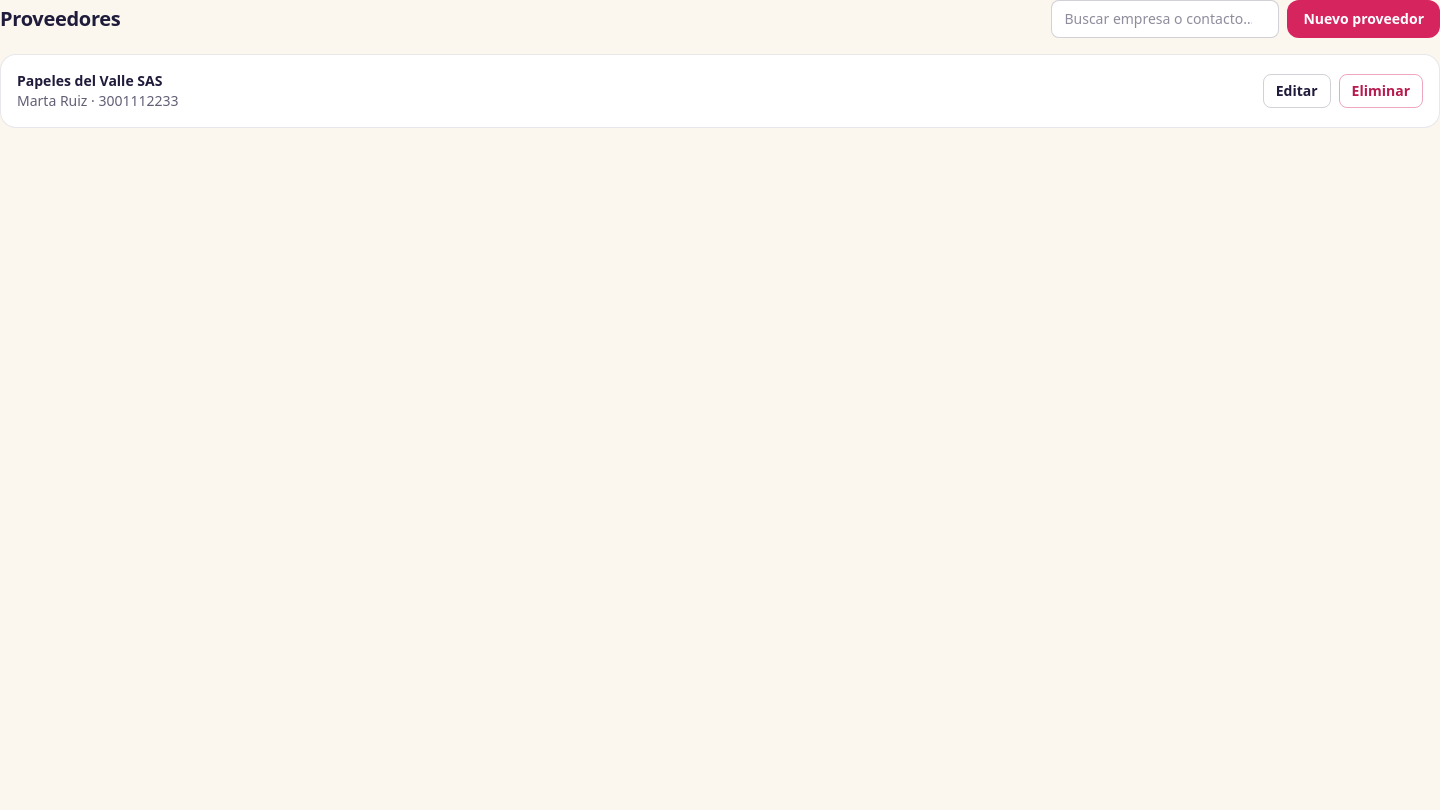
Scenario: Proveedores › muestra el error del backend al eliminar un proveedor con compras
Click the button "Eliminar" at coordinates (1381, 91), box [1339,74,1423,108]
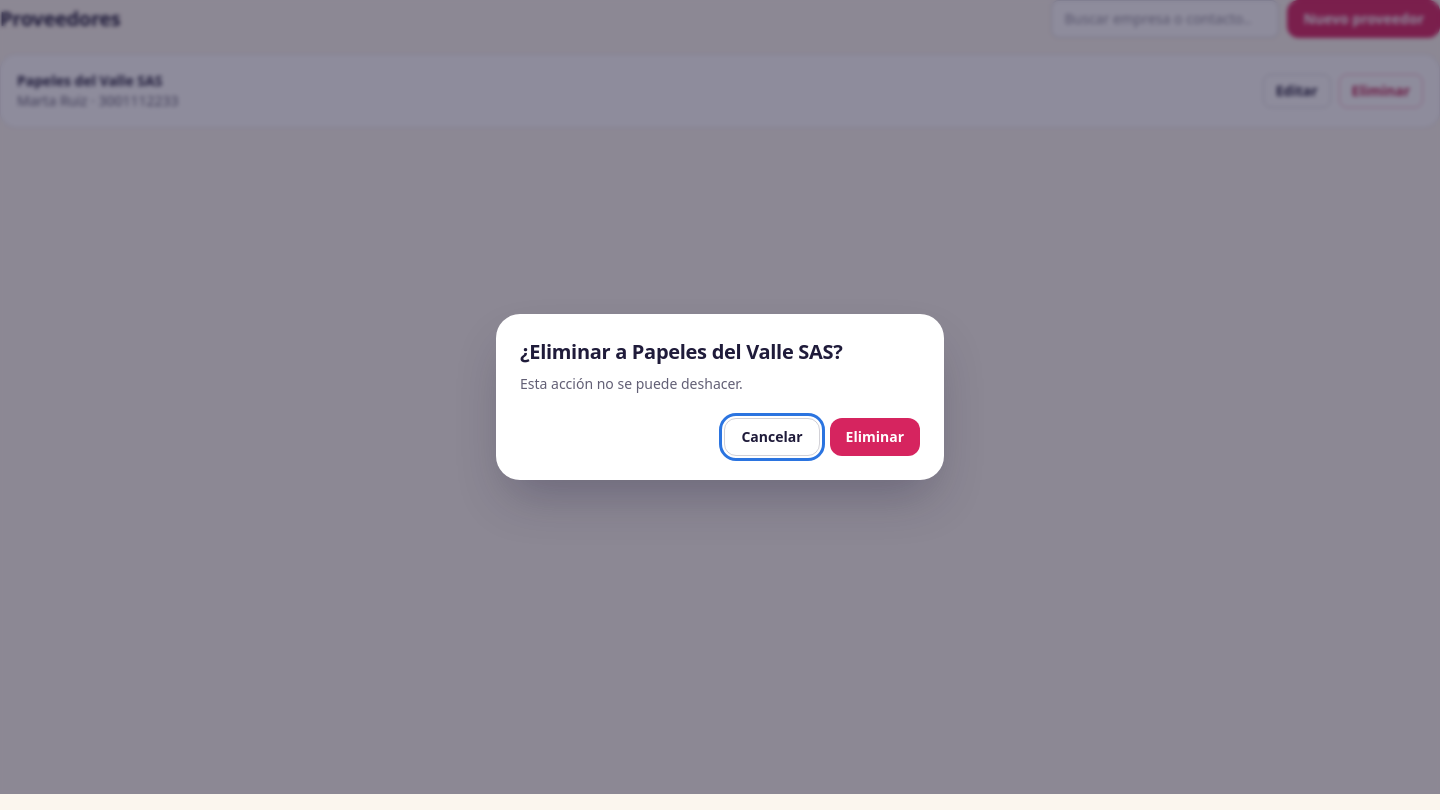
Click the button "Eliminar" at coordinates (875, 437), box [830,418,920,456]
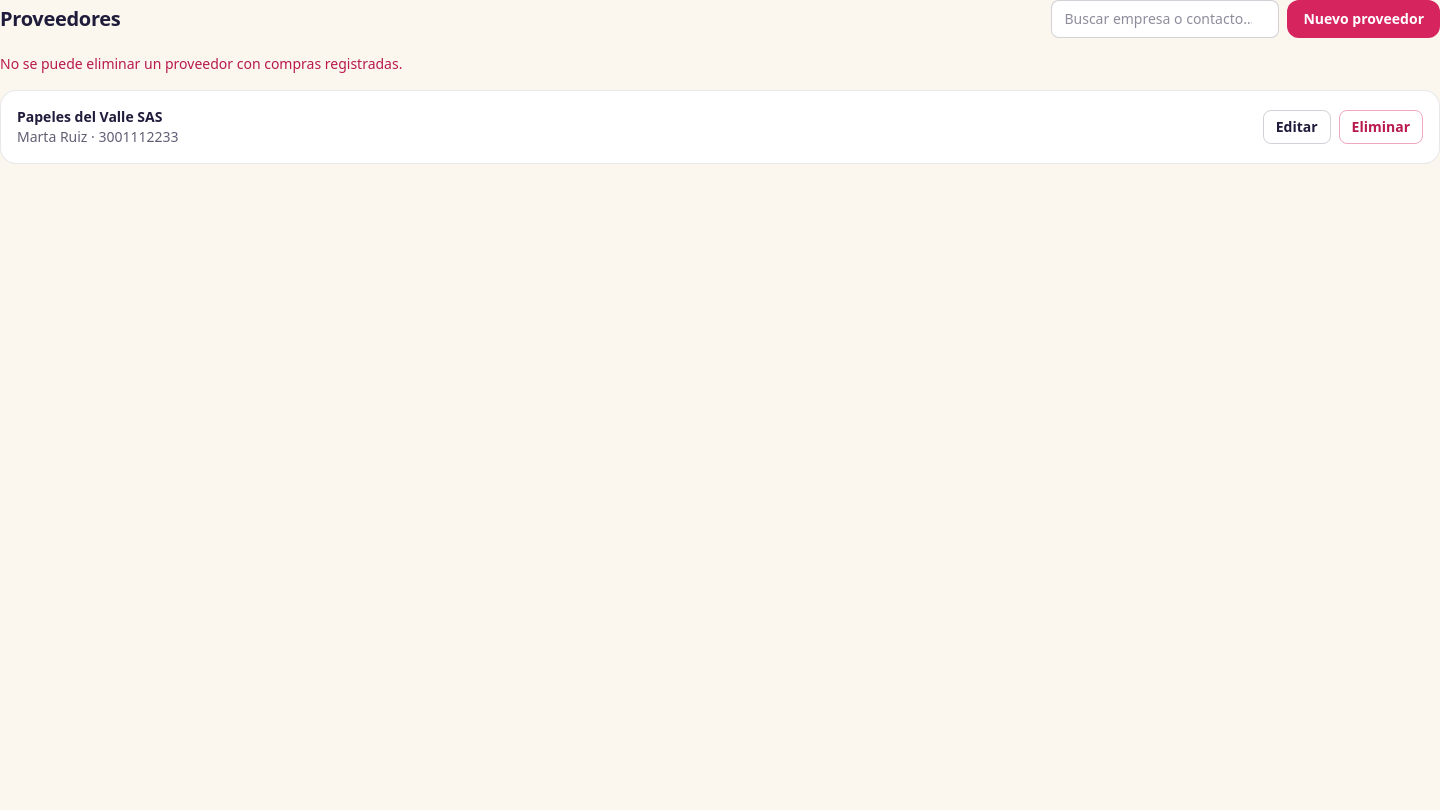
Check: the message shows "compras registradas", box [0,54,402,73]
